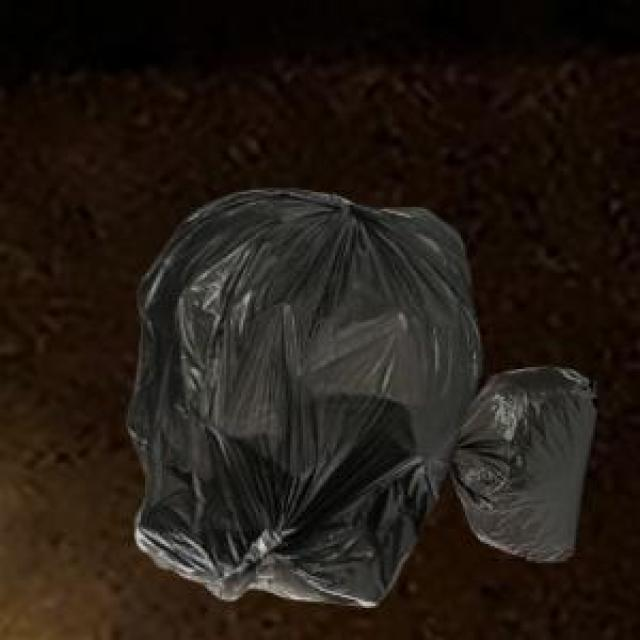waste: (128, 190, 594, 607)
